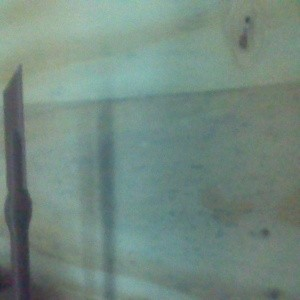cutter: (2, 62, 34, 300)
